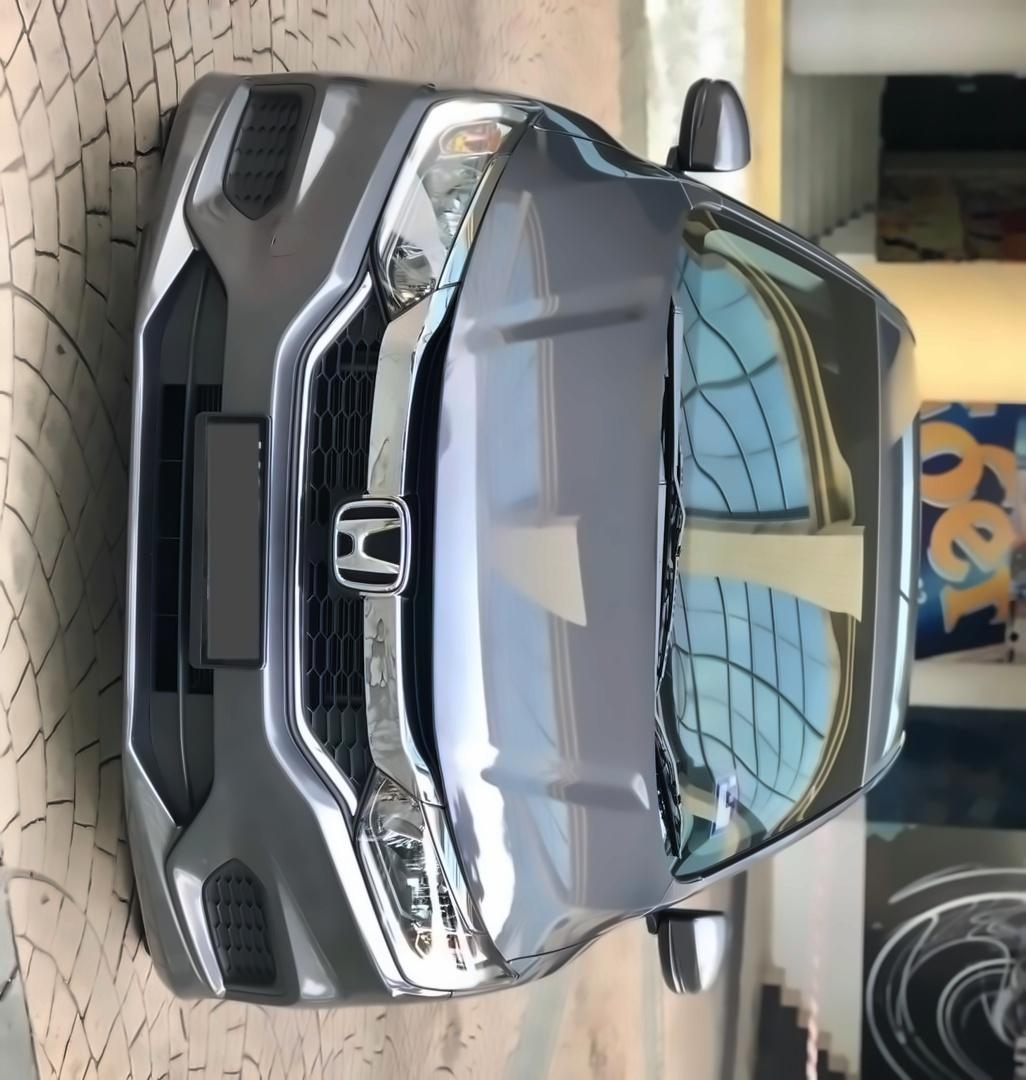Car hood: (429, 115, 688, 984)
Front bumper: (110, 69, 415, 1011)
Headlight - -L-: (349, 764, 516, 999)
Headlight - -R-: (369, 87, 537, 313)
Side mirror - -L-: (640, 902, 735, 994)
Side mirror - -R-: (659, 77, 756, 183)
